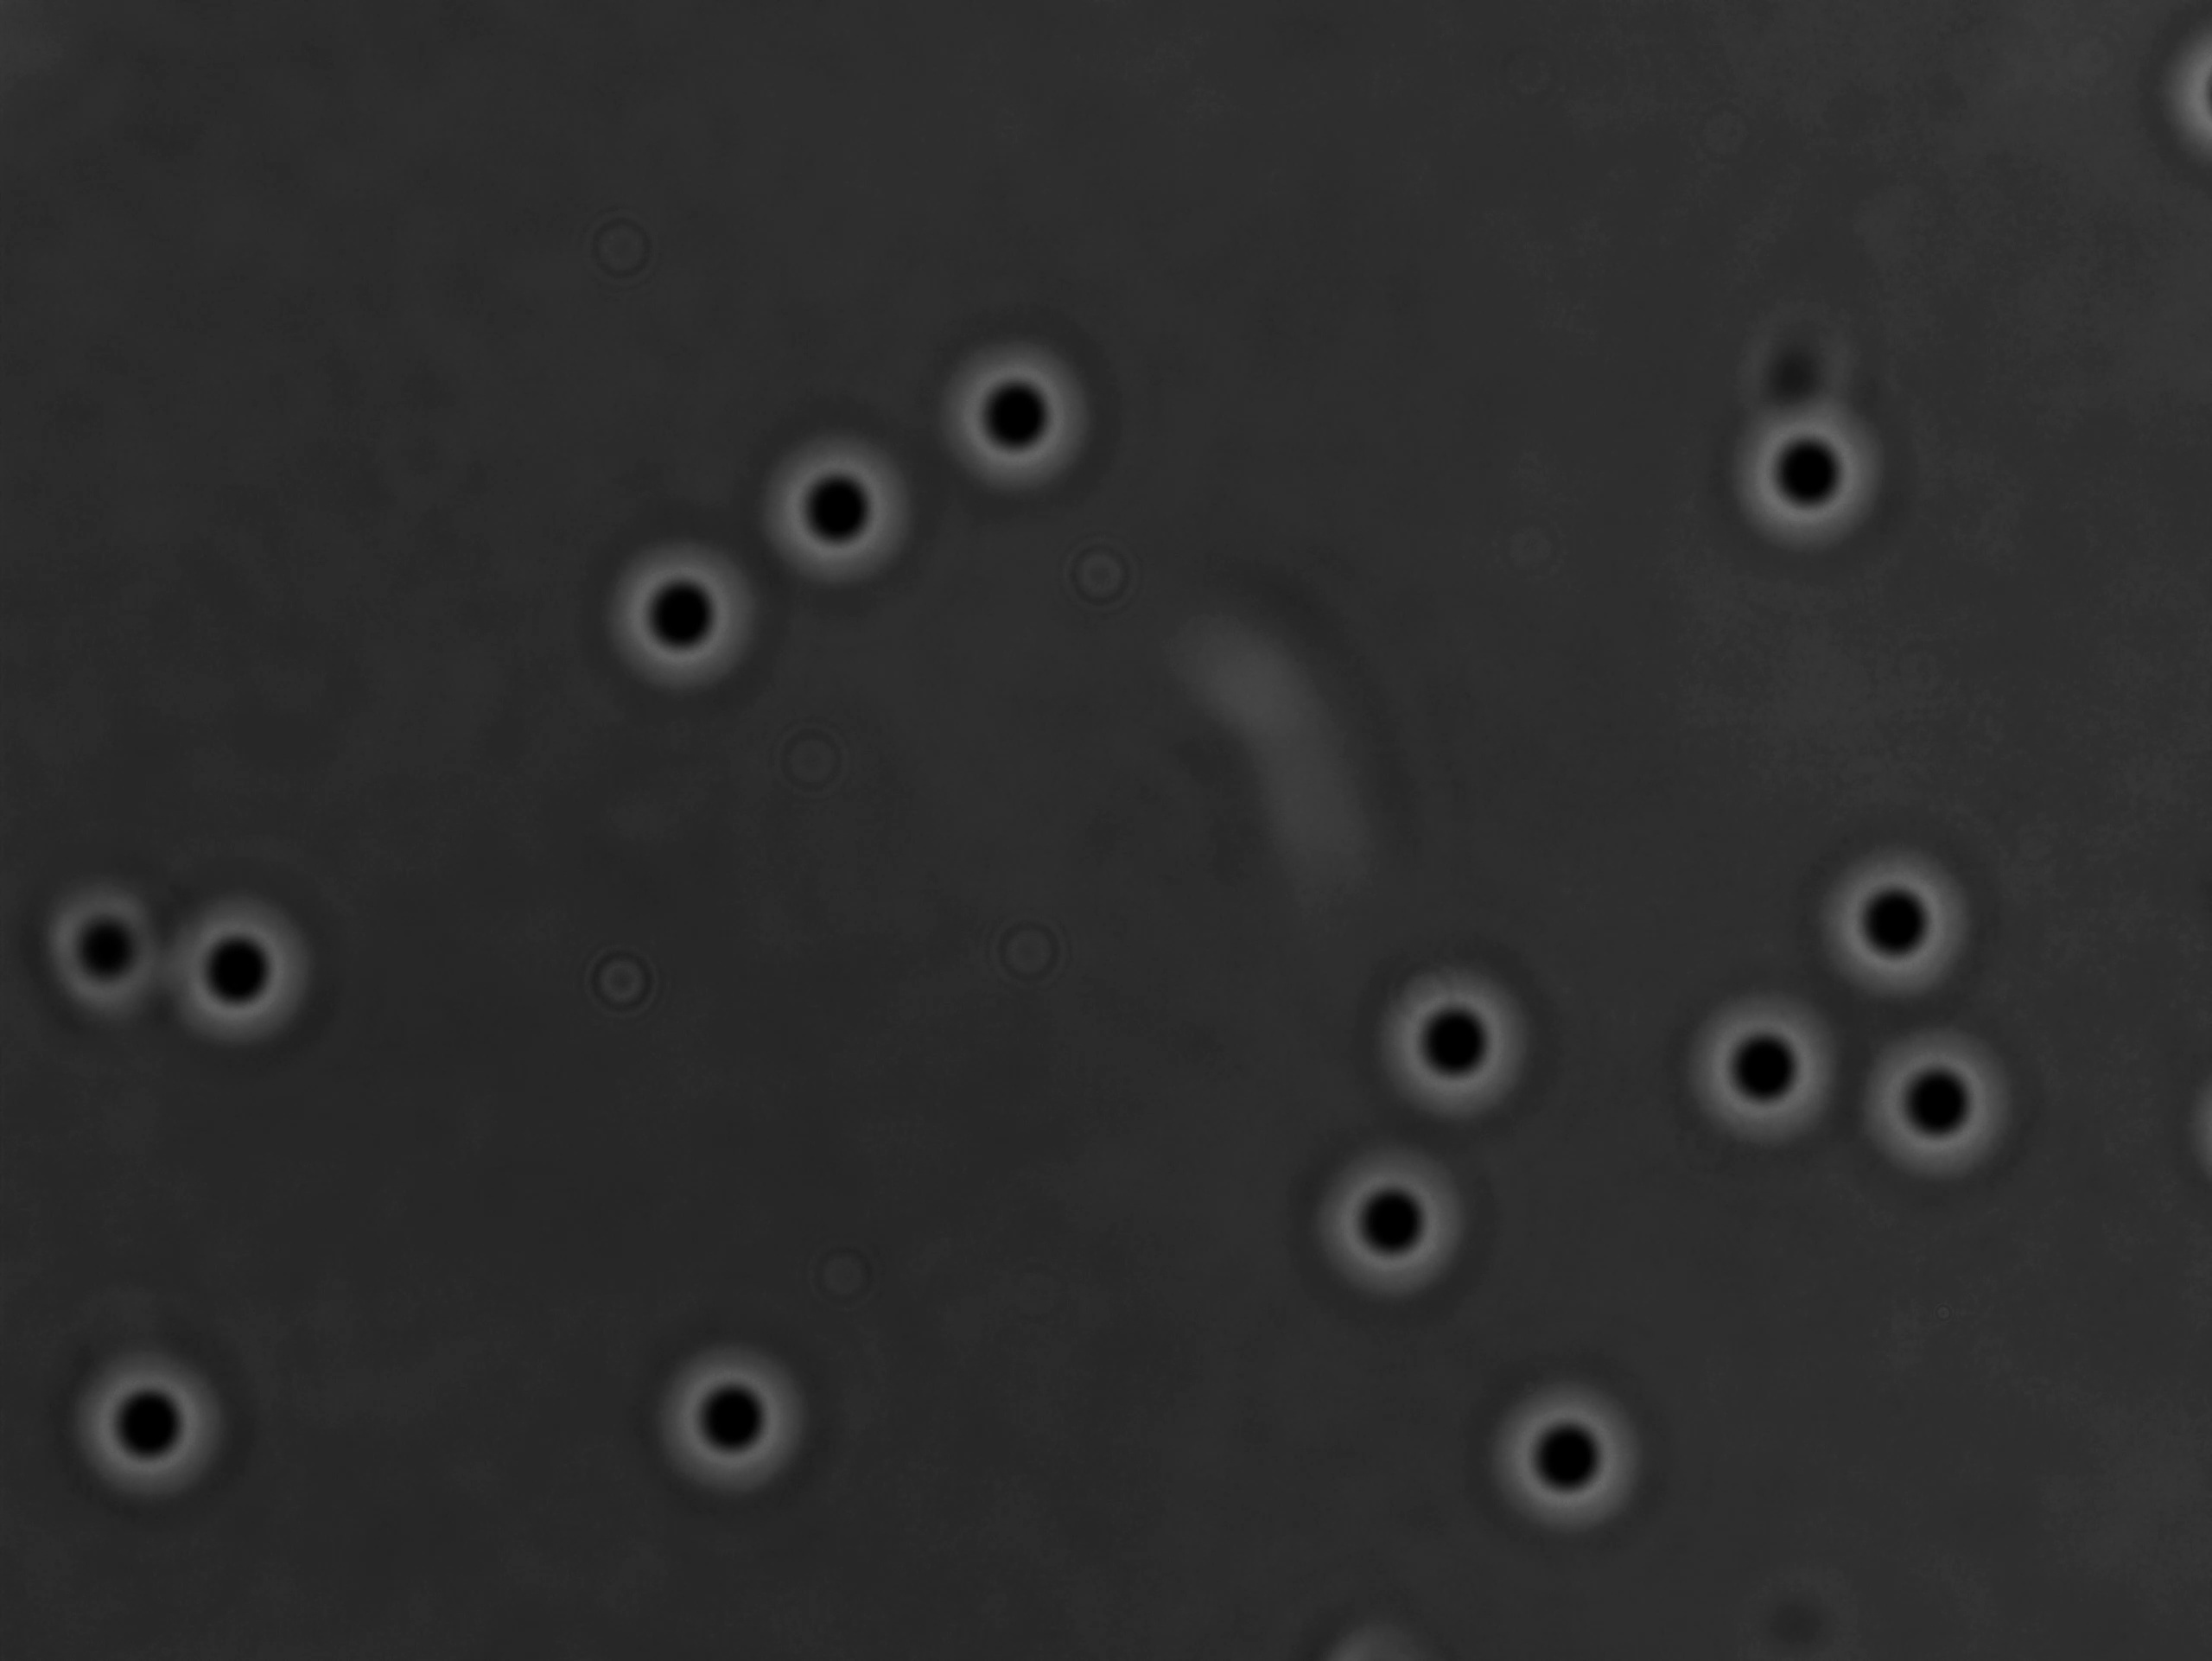depth:-80: (136, 871, 356, 1083), (1657, 960, 1877, 1171), (1343, 935, 1563, 1143), (51, 1312, 249, 1541), (1467, 1349, 1680, 1558), (1828, 1010, 2048, 1213), (1802, 839, 2025, 1036), (579, 499, 787, 710), (621, 1317, 830, 1525), (740, 408, 947, 611), (1282, 1122, 1493, 1317), (923, 314, 1113, 501), (1701, 387, 1895, 569)
